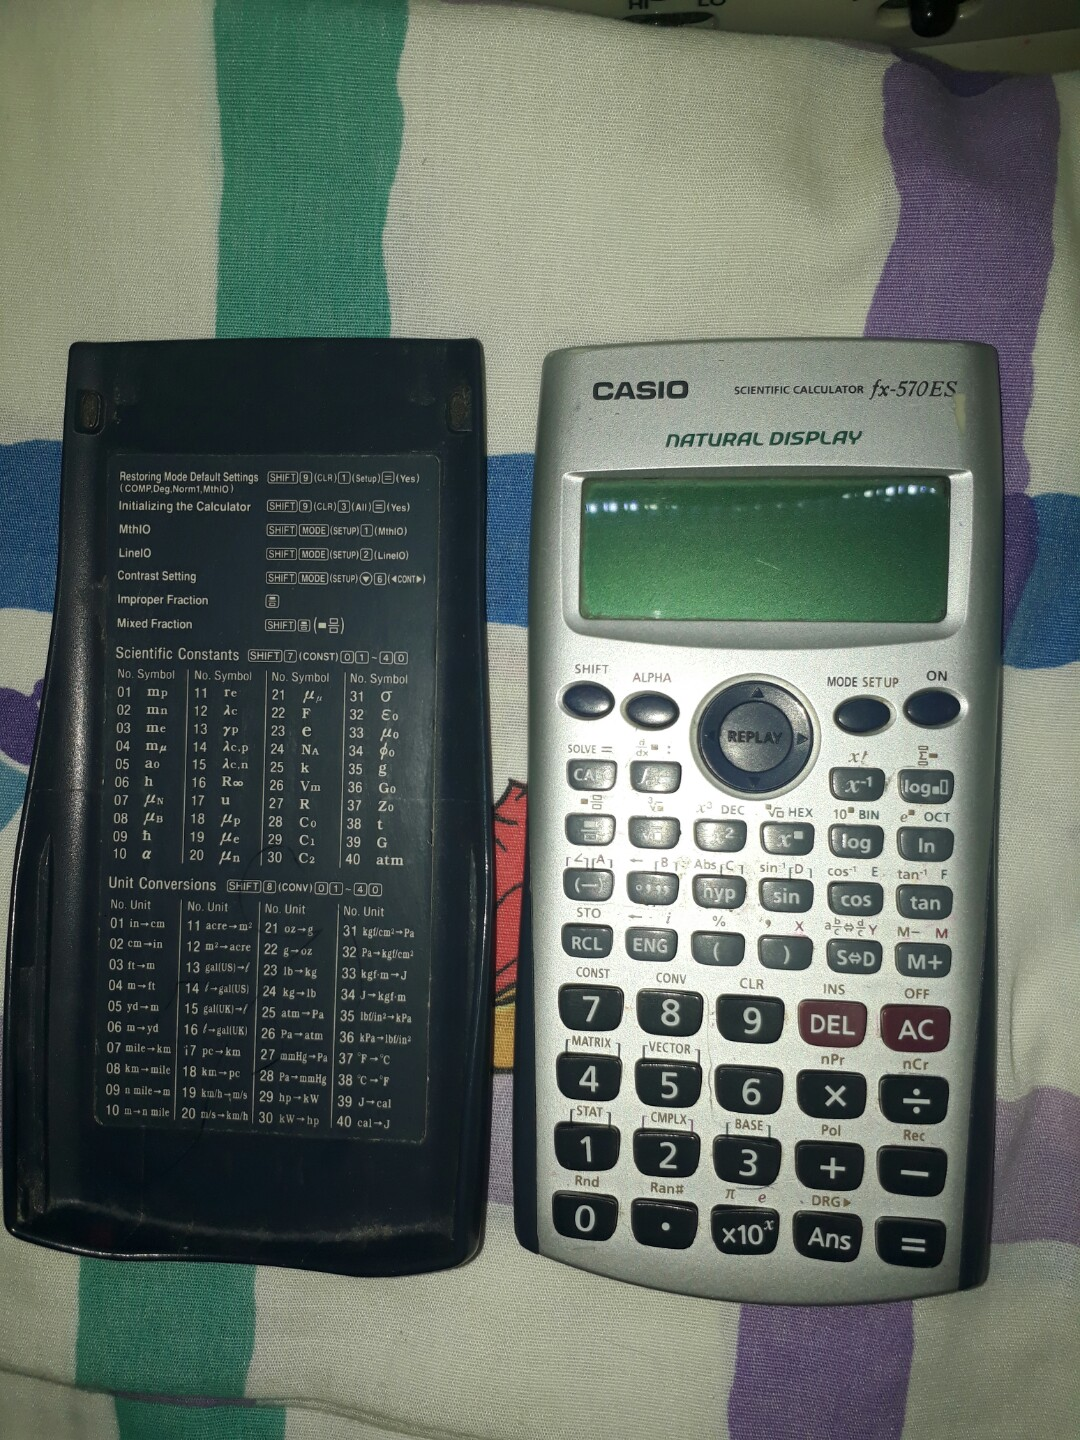Calculator: (515, 334, 1006, 1318)
